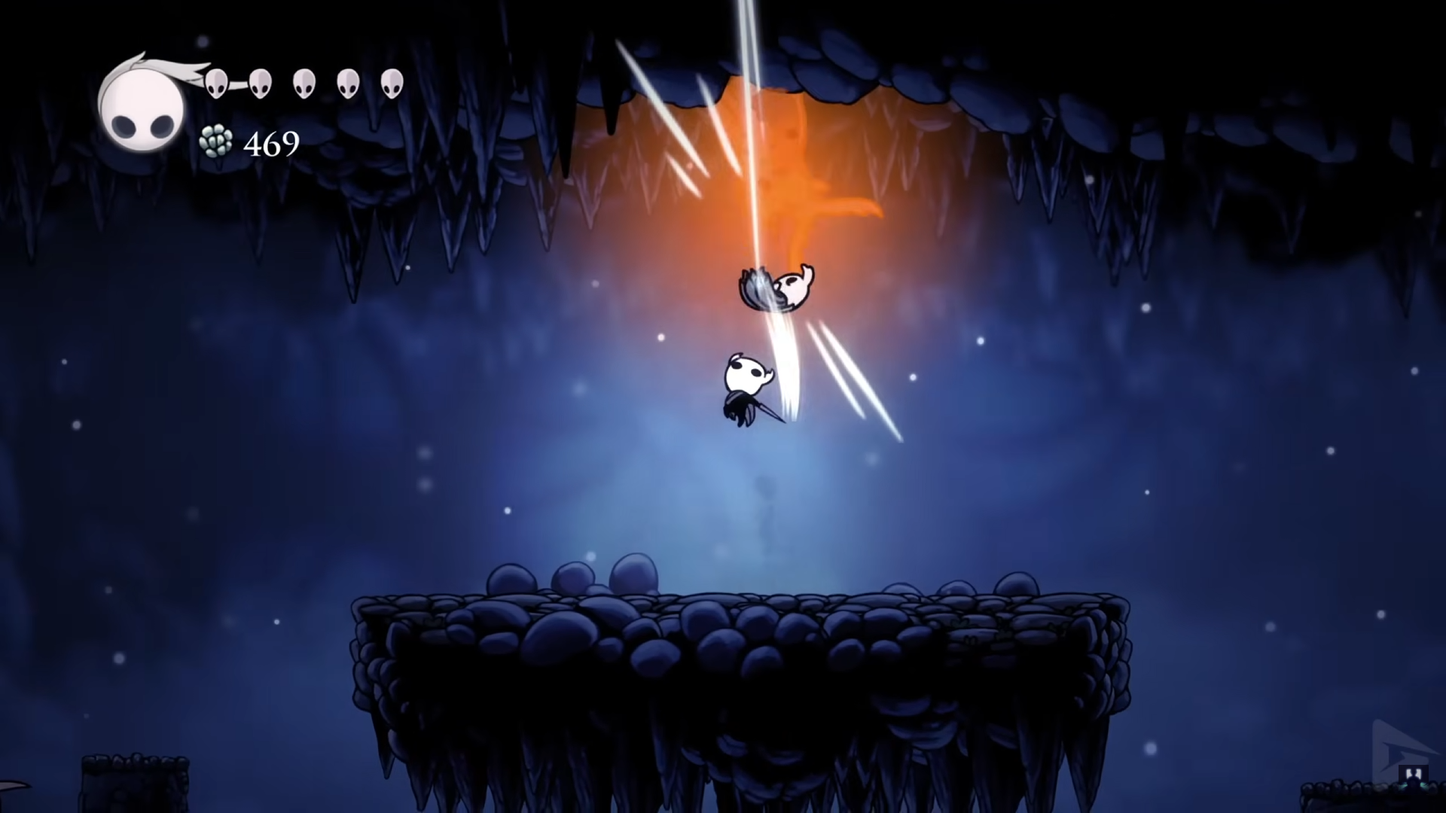HK: (718, 346, 779, 433)
